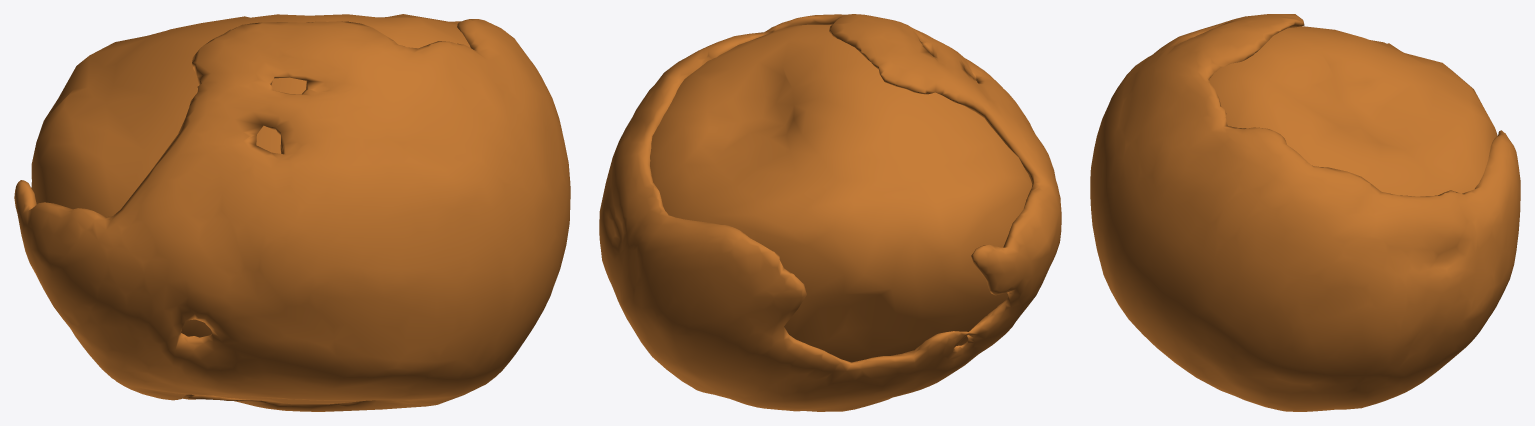
File: iLDL.fbx
3 views of the same model, side by side, from view 1: azimuth 30°, elevation 25°; view 2: azimuth 150°, elevation 25°; view 3: azimuth 270°, elevation 25° (orthographic). The views are drawn at different scales.
Parts seen in each view (by area): view 1: 5241IsoSurface4.053, iLDL; view 2: iLDL, 5241IsoSurface4.053; view 3: 5241IsoSurface4.053, iLDL.
Boxes of the visible parts, <box> form: 5241IsoSurface4.053: <box>14,19,570,411</box>; iLDL: <box>31,14,470,404</box>; iLDL: <box>650,24,1032,362</box>; 5241IsoSurface4.053: <box>599,14,1061,411</box>; 5241IsoSurface4.053: <box>1090,14,1520,411</box>; iLDL: <box>1209,26,1497,196</box>.
Bounding box in the file's own units: 216 × 174 × 200.
